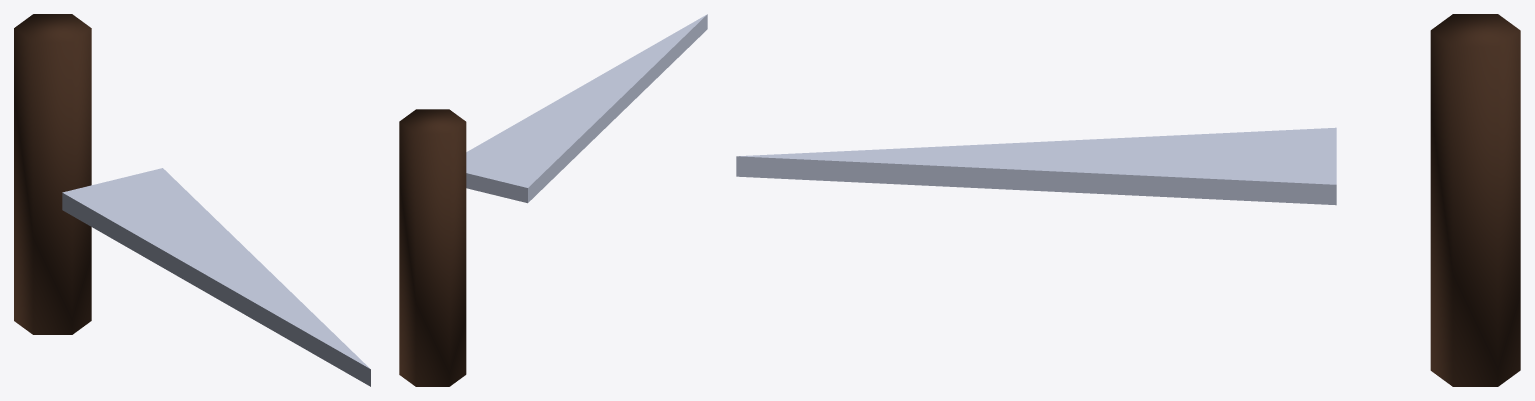
Rendered from flying_knife.glb.
3 renders of one model, left to right at view 1: azimuth 30°, elevation 25°; view 2: azimuth 150°, elevation 25°; view 3: azimuth 270°, elevation 25°, orthographic. The views are drawn at different scales.
Parts seen in each view (by area): view 1: flying_knife_v0; view 2: flying_knife_v0; view 3: flying_knife_v0.
Part boxes in pixels (x1,y1,x2,y2): flying_knife_v0: [14, 14, 370, 386]; flying_knife_v0: [399, 14, 707, 386]; flying_knife_v0: [736, 14, 1520, 386].
Size of the model in its own units: 0.036 by 0.1 by 0.209.
